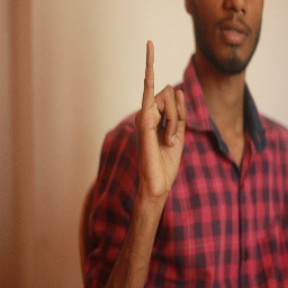I: (132, 35, 191, 196)
